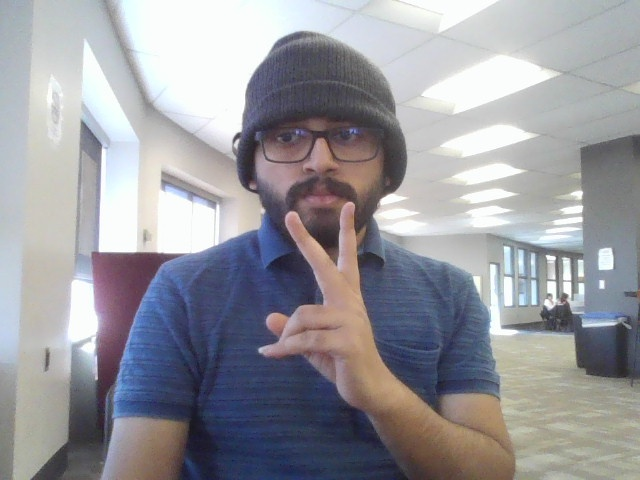start: (259, 189, 393, 428)
